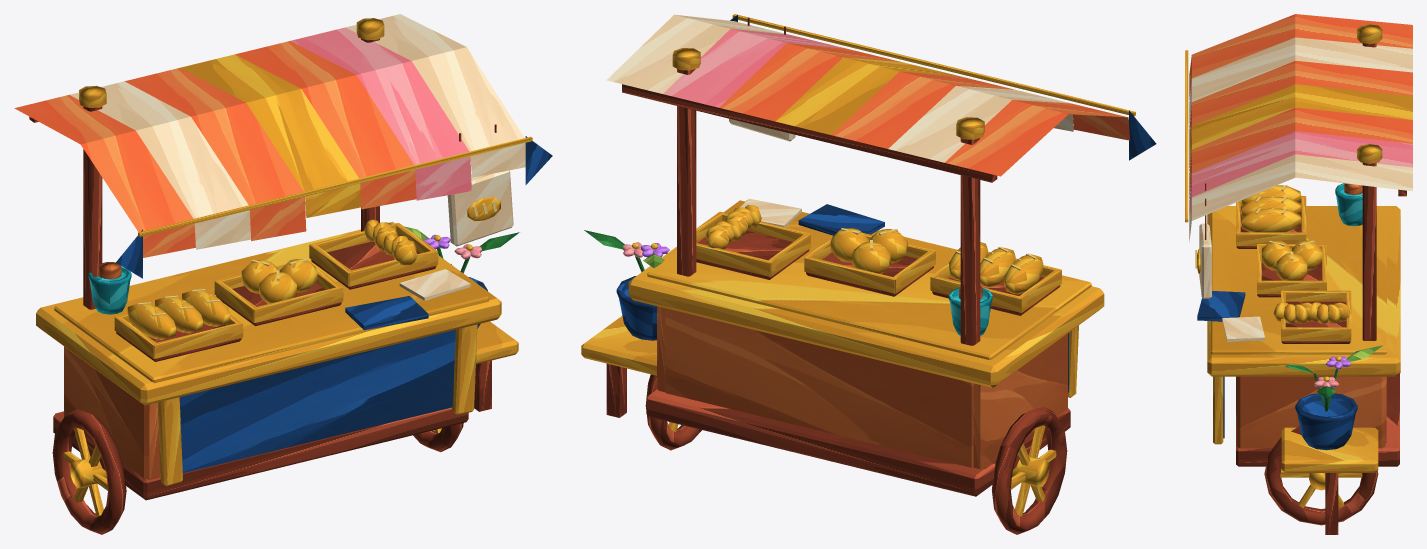
File: prior-bread_cart-01.glb
3 views of the same model, side by side, from view 1: azimuth 30°, elevation 25°; view 2: azimuth 150°, elevation 25°; view 3: azimuth 270°, elevation 25° (orthographic). The views are drawn at different scales.
Visible parts, largest first — view 1: bread_cart; view 2: bread_cart; view 3: bread_cart.
Boxes of the visible parts, left/top/right/bottom form: bread_cart: left=14, top=14, right=552, bottom=534; bread_cart: left=581, top=14, right=1156, bottom=534; bread_cart: left=1185, top=14, right=1412, bottom=534.
Bounding box in the file's own units: 2.85 × 2.32 × 1.32.
3 materials, 3 textured.
